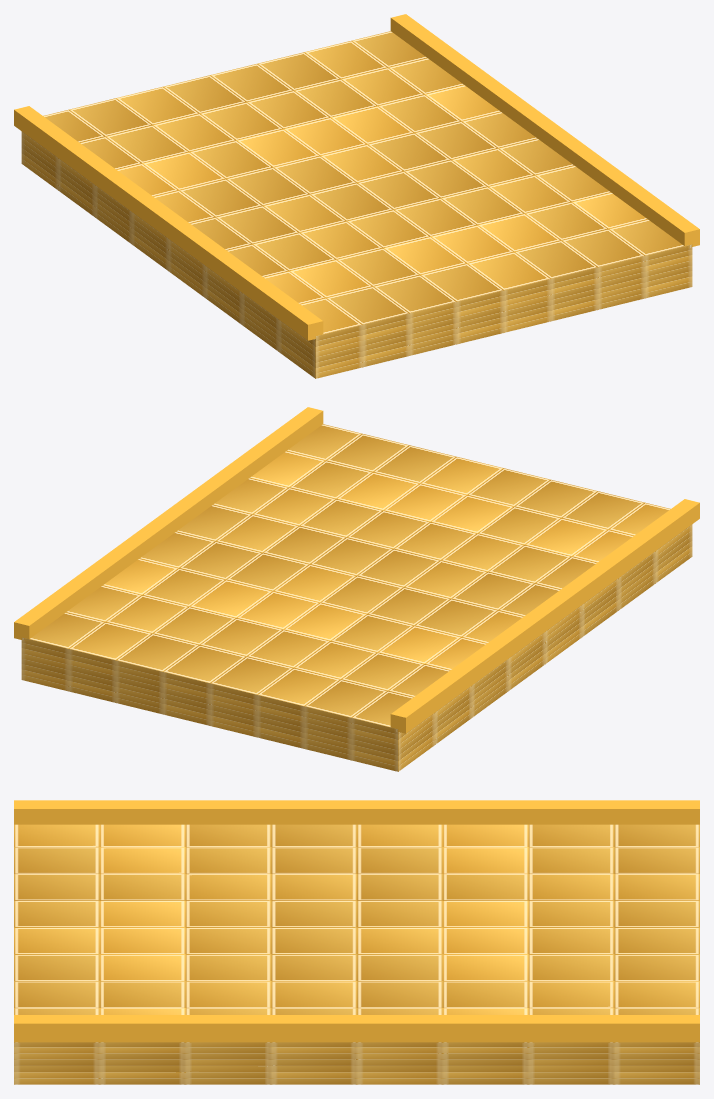
The model's file is kingdom-floor-10m.glb.
3 renders of one model, top to bottom at view 1: azimuth 30°, elevation 25°; view 2: azimuth 150°, elevation 25°; view 3: azimuth 270°, elevation 25°, orthographic. The views are drawn at different scales.
Visible parts, largest first — view 1: kingdom floor (10 m); view 2: kingdom floor (10 m); view 3: kingdom floor (10 m).
Boxes of the visible parts, <box> form: kingdom floor (10 m): <box>14,14,699,378</box>; kingdom floor (10 m): <box>14,407,699,771</box>; kingdom floor (10 m): <box>14,800,699,1084</box>.
Bounding box in the file's own units: 7.7 × 1.05 × 10.
2 materials, 1 textured.
